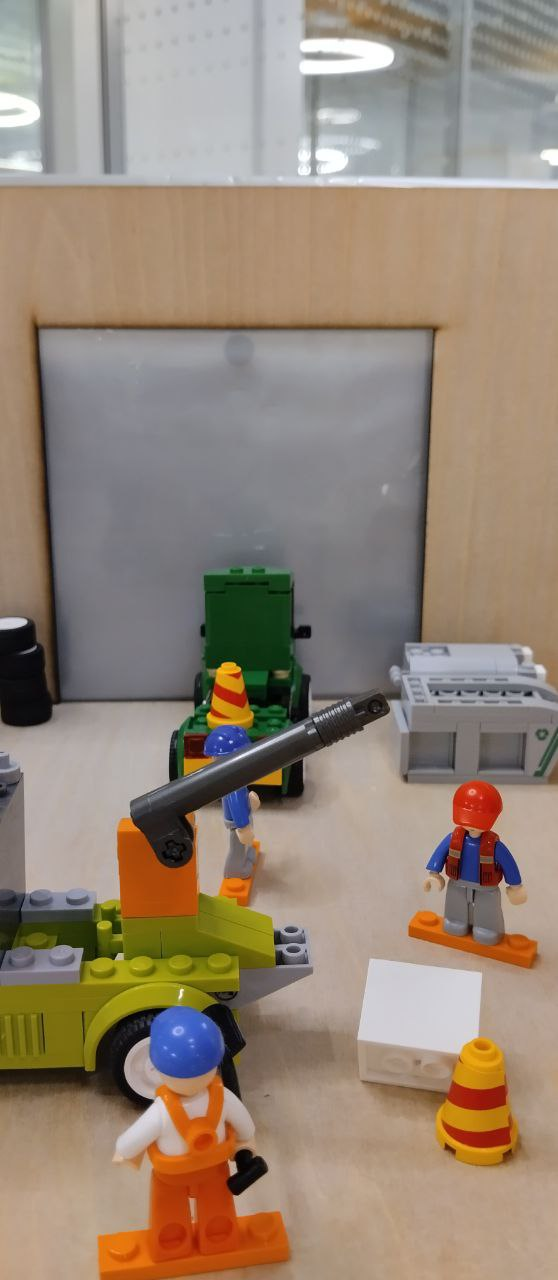Cone: (441, 1040, 518, 1160), (204, 657, 253, 728)
Crane: (0, 690, 401, 1100)
Object white: (364, 956, 482, 1096)
Truck: (178, 566, 313, 795)
